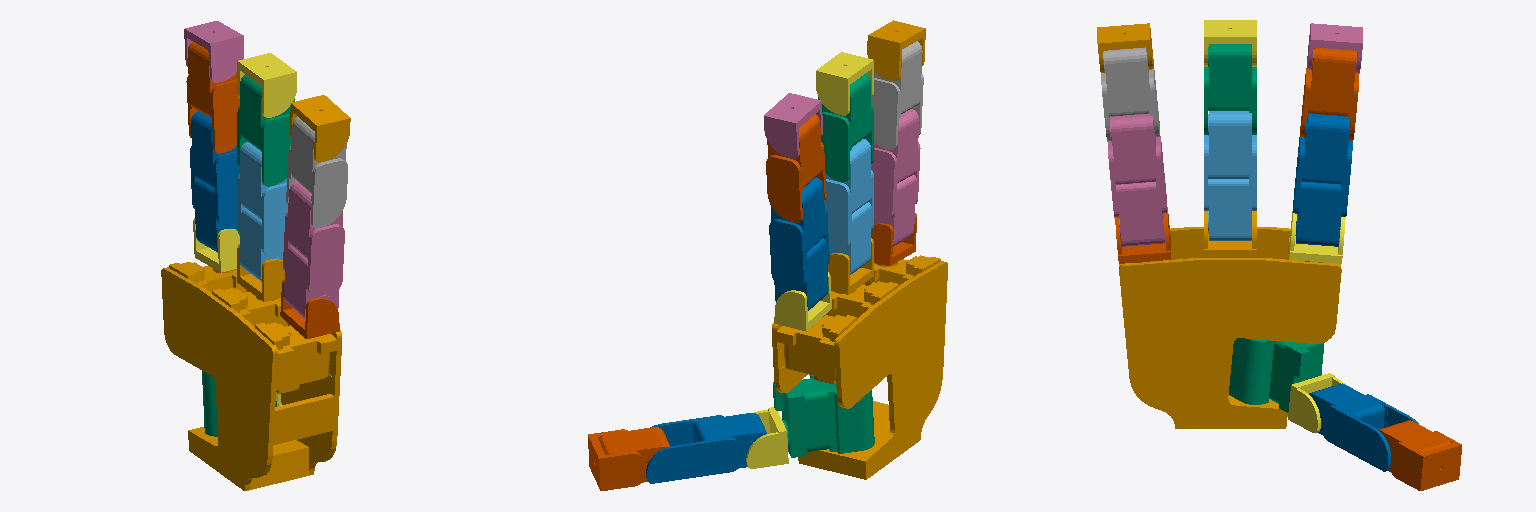
URDF robot description (allegro_right):
<?xml version="1.0" encoding="utf-8"?>
<robot name="allegro_right">
  <link name="base_link">
    <inertial>
      <mass value="0.4154"/>
      <origin rpy="0 0 0" xyz="0 0 0"/>
      <inertia ixx="1e-4" ixy="0" ixz="0" iyy="1e-4" iyz="0" izz="1e-4"/>
    </inertial>
    <visual>
      <geometry>
        <mesh filename="meshes/visual/base_link.obj"/>
      </geometry>
      <origin rpy="0 0 0" xyz="0 0 0 "/>
    </visual>
    <collision>
      <origin rpy="0 0 0" xyz="-0.009 0.0 -0.023"/>
      <geometry>
        <box size="0.0414 0.112 0.0448"/>
      </geometry>
    </collision>
    <collision>
      <origin rpy="0 0 0" xyz="-0.009 -0.0253 -0.0667"/>
      <geometry>
        <box size="0.0414 0.0538 0.0428"/>
      </geometry>
    </collision>
    <collision>
      <origin rpy="0 0 0" xyz="-0.009300 -0.00557 -0.08874"/>
      <geometry>
        <box size="0.0414 0.0720 0.013"/>
      </geometry>
    </collision>
  </link>

  <link name="palm">
  </link>
  <joint name="palm_joint" type="fixed">
    <parent link="base_link"/>
    <child link="palm"/>
    <origin rpy="0.00000 -0.00000 0.00000" xyz="0 0 -0.065"/>
  </joint>

  <!--  virtual link-->
  <link name="wrist">
    <inertial>
      <mass value="0.01"/>
      <origin rpy="0 0 0" xyz="0 0 0"/>
      <inertia ixx="1e-6" ixy="0" ixz="0" iyy="1e-6" iyz="0" izz="1e-6"/>
    </inertial>
  </link>
  <joint name="wrist_joint" type="fixed">
    <origin rpy="0 0 0" xyz="0 0 -0.03"/>
    <parent link="palm"/>
    <child link="wrist"/>
  </joint>

  <link name="link_0.0">
    <visual>
      <geometry>
        <mesh filename="meshes/visual/link_0.0.obj"/>
      </geometry>
    </visual>
    <collision>
      <geometry>
        <box size="0.0196 0.0275 0.0164"/>
      </geometry>
      <origin rpy="0 0 0" xyz="0 0 0.0082"/>
    </collision>
    <inertial>
      <mass value="0.005"/>
      <origin xyz="0 0 0"/>
      <inertia ixx="5.1458e-05" iyy="5.1458e-05" izz="6.125e-05" ixy="0" ixz="0" iyz="0"/>
    </inertial>
  </link>
  <joint name="joint_0.0" type="revolute">
    <axis xyz="0 0 1"/>
    <limit effort="10" lower="-0.47" upper="0.47" velocity="0"/>
    <parent link="base_link"/>
    <child link="link_0.0"/>
    <origin rpy="-0.08726646255 0 0" xyz="0 0.0435 -0.001542"/>
  </joint>
  <link name="link_1.0">
    <inertial>
      <mass value="0.125164"/>
      <origin xyz="0.027 0 0"/>
      <inertia ixx="6.39979e-06" iyy="8.88687e-05" izz="9.13751e-05" ixy="-3.26531e-06" ixz="1.23963e-05"
               iyz="2.07384e-05"/>
    </inertial>
    <visual>
      <geometry>
        <mesh filename="meshes/visual/link_1.0.obj"/>
      </geometry>
    </visual>
    <collision>
      <geometry>
        <box size="0.0196 0.0275 0.054"/>
      </geometry>
      <origin rpy="0 0 0" xyz="0 0 0.027"/>
    </collision>
  </link>
  <joint name="joint_1.0" type="revolute">
    <limit effort="10" lower="-0.196" upper="1.61" velocity="0"/>
    <axis xyz="0 1 0"/>
    <parent link="link_0.0"/>
    <child link="link_1.0"/>
    <origin xyz="0 0 0.0164"/>
  </joint>
  <link name="link_2.0">
    <inertial>
      <mass value="0.131691"/>
      <origin xyz="0.039 0 0"/>
      <inertia ixx="7.04217e-05" iyy="3.95744e-05" izz="6.61125e-05" ixy="-9.64342e-05" ixz="5.8796e-05"
               iyz="-3.62996e-05"/>
    </inertial>
    <visual>
      <geometry>
        <mesh filename="meshes/visual/link_2.0.obj"/>
      </geometry>
    </visual>
    <collision>
      <geometry>
        <box size="0.0196 0.0275 0.0384"/>
      </geometry>
      <origin rpy="0 0 0" xyz="0 0 0.0192"/>
    </collision>
  </link>
  <joint name="joint_2.0" type="revolute">
    <axis xyz="0 1 0"/>
    <limit effort="10" lower="-0.174" upper="1.709" velocity="0"/>
    <parent link="link_1.0"/>
    <child link="link_2.0"/>
    <origin xyz="0 0 0.054"/>
  </joint>
  <link name="link_3.0">
    <inertial>
      <mass value="0.0388"/>
      <origin xyz="0 0 0" rpy="0 0 0"/>
      <inertia ixx="3.29223173333e-05" ixy="8.042076e-06" ixz="5.2283e-06"
               iyy="1.47493026667e-5" iyz="1.1283525e-5" izz="3.29223173333e-05"/>
    </inertial>
    <visual>
      <geometry>
        <mesh filename="meshes/visual/link_3.0.obj"/>
      </geometry>
    </visual>
    <collision>
      <geometry>
        <box size="0.0196 0.0269 0.022"/>
      </geometry>
      <origin rpy="0 0 0" xyz="0 0 0.0047"/>
    </collision>
    <inertial>
      <origin rpy="0 0 0" xyz="0 0 0.01335"/>
      <mass value="0.02"/>
      <inertia ixx="1e-5" ixy="0.0" ixz="0.0" iyy="2e-5" iyz="0.0" izz="2e-5"/>
    </inertial>
  </link>
  <joint name="joint_3.0" type="revolute">
    <axis xyz="0 1 0"/>
    <limit effort="10" lower="-0.227" upper="1.618" velocity="0"/>
    <parent link="link_2.0"/>
    <child link="link_3.0"/>
    <origin xyz="0 0 0.0384"/>
  </joint>
  <link name="link_3.0_tip">
    <visual>
      <geometry>
        <mesh filename="meshes/visual/link_tip.obj"/>
      </geometry>
    </visual>
    <collision>
      <geometry>
      <mesh filename="meshes/collision/link_tip.obj"/>
      </geometry>
    </collision>
  </link>
  <joint name="joint_3.0_tip" type="fixed">
    <parent link="link_3.0"/>
    <child link="link_3.0_tip"/>
    <origin rpy="0 0 0" xyz="0 0 0.0267"/>
  </joint>
  <link name="link_4.0">
    <inertial>
      <mass value="0.005"/>
      <origin xyz="0 0 0"/>
      <inertia ixx="5.1458e-05" iyy="5.1458e-05" izz="6.125e-05" ixy="0" ixz="0" iyz="0"/>
    </inertial>
    <visual>
      <geometry>
        <mesh filename="meshes/visual/link_0.0.obj"/>
      </geometry>
    </visual>
    <collision>
      <geometry>
        <box size="0.0196 0.0275 0.0164"/>
      </geometry>
      <origin rpy="0 0 0" xyz="0 0 0.0082"/>
    </collision>
  </link>
  <joint name="joint_4.0" type="revolute">
    <axis xyz="0 0 1"/>
    <limit effort="10" lower="-0.47" upper="0.47" velocity="0"/>
    <parent link="base_link"/>
    <child link="link_4.0"/>
    <origin rpy="0.0 0 0" xyz="0 0 0.0007"/>
  </joint>
  <link name="link_5.0">
    <inertial>
      <mass value="0.125164"/>
      <origin xyz="0.027 0 0"/>
      <inertia ixx="6.39979e-06" iyy="8.88687e-05" izz="9.13751e-05" ixy="-3.26531e-06" ixz="1.23963e-05"
               iyz="2.07384e-05"/>
    </inertial>
    <visual>
      <geometry>
        <mesh filename="meshes/visual/link_1.0.obj"/>
      </geometry>
    </visual>
    <collision>
      <geometry>
        <box size="0.0196 0.0275 0.054"/>
      </geometry>
      <origin rpy="0 0 0" xyz="0 0 0.027"/>
    </collision>
  </link>
  <joint name="joint_5.0" type="revolute">
    <limit effort="10" lower="-0.196" upper="1.61" velocity="0"/>
    <axis xyz="0 1 0"/>
    <parent link="link_4.0"/>
    <child link="link_5.0"/>
    <origin xyz="0 0 0.0164"/>
  </joint>
  <link name="link_6.0">
    <inertial>
      <mass value="0.131691"/>
      <origin xyz="0.039 0 0"/>
      <inertia ixx="7.04217e-05" iyy="3.95744e-05" izz="6.61125e-05" ixy="-9.64342e-05" ixz="5.8796e-05"
               iyz="-3.62996e-05"/>
    </inertial>
    <visual>
      <geometry>
        <mesh filename="meshes/visual/link_2.0.obj"/>
      </geometry>
    </visual>
    <collision>
      <geometry>
        <box size="0.0196 0.0275 0.0384"/>
      </geometry>
      <origin rpy="0 0 0" xyz="0 0 0.0192"/>
    </collision>
  </link>
  <joint name="joint_6.0" type="revolute">
    <axis xyz="0 1 0"/>
    <limit effort="10" lower="-0.174" upper="1.709" velocity="0"/>
    <parent link="link_5.0"/>
    <child link="link_6.0"/>
    <origin xyz="0 0 0.054"/>
  </joint>
  <link name="link_7.0">
    <inertial>
      <mass value="0.0388"/>
      <origin xyz="0 0 0" rpy="0 0 0"/>
      <inertia ixx="3.29223173333e-05" ixy="8.042076e-06" ixz="5.2283e-06"
               iyy="1.47493026667e-5" iyz="1.1283525e-5" izz="3.29223173333e-05"/>
    </inertial>
    <visual>
      <geometry>
        <mesh filename="meshes/visual/link_3.0.obj"/>
      </geometry>
    </visual>
    <collision>
      <geometry>
        <box size="0.0196 0.0269 0.022"/>
      </geometry>
      <origin rpy="0 0 0" xyz="0 0 0.0047"/>
    </collision>
  </link>
  <joint name="joint_7.0" type="revolute">
    <axis xyz="0 1 0"/>
    <limit effort="10" lower="-0.227" upper="1.618" velocity="0"/>
    <parent link="link_6.0"/>
    <child link="link_7.0"/>
    <origin xyz="0 0 0.0384"/>
  </joint>
  <link name="link_7.0_tip">
    <visual>
      <geometry>
        <mesh filename="meshes/visual/link_tip.obj"/>
      </geometry>
    </visual>
    <collision>
      <geometry>
        <mesh filename="meshes/collision/link_tip.obj"/>
      </geometry>
    </collision>
  </link>
  <joint name="joint_7.0_tip" type="fixed">
    <parent link="link_7.0"/>
    <child link="link_7.0_tip"/>
    <origin rpy="0 0 0" xyz="0 0 0.0267"/>
  </joint>
  <link name="link_8.0">
    <inertial>
      <mass value="0.005"/>
      <origin xyz="0 0 0"/>
      <inertia ixx="5.1458e-05" iyy="5.1458e-05" izz="6.125e-05" ixy="0" ixz="0" iyz="0"/>
    </inertial>
    <visual>
      <geometry>
        <mesh filename="meshes/visual/link_0.0.obj"/>
      </geometry>
    </visual>
    <collision>
      <geometry>
        <box size="0.0196 0.0275 0.0164"/>
      </geometry>
      <origin rpy="0 0 0" xyz="0 0 0.0082"/>
    </collision>
  </link>
  <joint name="joint_8.0" type="revolute">
    <axis xyz="0 0 1"/>
    <limit effort="10" lower="-0.47" upper="0.47" velocity="0"/>
    <parent link="base_link"/>
    <child link="link_8.0"/>
    <origin rpy="0.08726646255 0 0" xyz="0 -0.0435 -0.001542"/>
  </joint>
  <link name="link_9.0">
    <inertial>
      <mass value="0.125164"/>
      <origin xyz="0.027 0 0"/>
      <inertia ixx="6.39979e-06" iyy="8.88687e-05" izz="9.13751e-05" ixy="-3.26531e-06" ixz="1.23963e-05"
               iyz="2.07384e-05"/>
    </inertial>
    <visual>
      <geometry>
        <mesh filename="meshes/visual/link_1.0.obj"/>
      </geometry>
    </visual>
    <collision>
      <geometry>
        <box size="0.0196 0.0275 0.054"/>
      </geometry>
      <origin rpy="0 0 0" xyz="0 0 0.027"/>
    </collision>
  </link>
  <joint name="joint_9.0" type="revolute">
    <limit effort="10" lower="-0.196" upper="1.61" velocity="0"/>
    <axis xyz="0 1 0"/>
    <parent link="link_8.0"/>
    <child link="link_9.0"/>
    <origin xyz="0 0 0.0164"/>
  </joint>
  <link name="link_10.0">
    <inertial>
      <mass value="0.131691"/>
      <origin xyz="0.039 0 0"/>
      <inertia ixx="7.04217e-05" iyy="3.95744e-05" izz="6.61125e-05" ixy="-9.64342e-05" ixz="5.8796e-05"
               iyz="-3.62996e-05"/>
    </inertial>
    <visual>
      <geometry>
        <mesh filename="meshes/visual/link_2.0.obj"/>
      </geometry>
    </visual>
    <collision>
      <geometry>
        <box size="0.0196 0.0275 0.0384"/>
      </geometry>
      <origin rpy="0 0 0" xyz="0 0 0.0192"/>
    </collision>
  </link>
  <joint name="joint_10.0" type="revolute">
    <axis xyz="0 1 0"/>
    <limit effort="10" lower="-0.174" upper="1.709" velocity="0"/>
    <parent link="link_9.0"/>
    <child link="link_10.0"/>
    <origin xyz="0 0 0.054"/>
  </joint>
  <link name="link_11.0">
    <inertial>
      <mass value="0.0388"/>
      <origin xyz="0 0 0" rpy="0 0 0"/>
      <inertia ixx="3.29223173333e-05" ixy="8.042076e-06" ixz="5.2283e-06"
               iyy="1.47493026667e-5" iyz="1.1283525e-5" izz="3.29223173333e-05"/>
    </inertial>
    <visual>
      <geometry>
        <mesh filename="meshes/visual/link_3.0.obj"/>
      </geometry>
    </visual>
    <collision>
      <geometry>
        <box size="0.0196 0.0269 0.022"/>
      </geometry>
      <origin rpy="0 0 0" xyz="0 0 0.0047"/>
    </collision>
  </link>
  <joint name="joint_11.0" type="revolute">
    <axis xyz="0 1 0"/>
    <limit effort="10" lower="-0.227" upper="1.618" velocity="0"/>
    <parent link="link_10.0"/>
    <child link="link_11.0"/>
    <origin xyz="0 0 0.0384"/>
  </joint>
  <link name="link_11.0_tip">
    <visual>
      <geometry>
        <mesh filename="meshes/visual/link_tip.obj"/>
      </geometry>
    </visual>
    <collision>
      <geometry>
        <mesh filename="meshes/collision/link_tip.obj"/>
      </geometry>
    </collision>
  </link>
  <joint name="joint_11.0_tip" type="fixed">
    <parent link="link_11.0"/>
    <child link="link_11.0_tip"/>
    <origin rpy="0 0 0" xyz="0 0 0.0267"/>
  </joint>
  <!-- THUMB -->
  <link name="link_12.0">
    <inertial>
      <mass value="0.005"/>
      <origin xyz="0 0 0"/>
      <inertia ixx="5.1458e-05" iyy="5.1458e-05" izz="6.125e-05" ixy="0" ixz="0" iyz="0"/>
    </inertial>
    <visual>
      <geometry>
        <mesh filename="meshes/visual/link_12.0_right.obj"/>
      </geometry>
    </visual>
    <collision>
      <geometry>
        <box size="0.0358 0.034 0.0455"/>
      </geometry>
      <origin rpy="0 0 0" xyz="-0.0179 0.009 0.0145"/>
    </collision>
  </link>
  <joint name="joint_12.0" type="revolute">
    <axis xyz="-1 0 0"/>
    <limit effort="10" lower="0.263" upper="1.396" velocity="0"/>
    <parent link="base_link"/>
    <child link="link_12.0"/>
    <origin rpy="0 -1.65806278845 -1.5707963259" xyz="-0.0182 0.019333 -0.045987"/>
  </joint>
  <link name="link_13.0">
    <inertial>
      <mass value="0.125164"/>
      <origin xyz="0.027 0 0"/>
      <inertia ixx="6.39979e-06" iyy="8.88687e-05" izz="9.13751e-05" ixy="-3.26531e-06" ixz="1.23963e-05"
               iyz="2.07384e-05"/>
    </inertial>
    <visual>
      <geometry>
        <mesh filename="meshes/visual/link_13.0.obj"/>
      </geometry>
    </visual>
    <collision>
      <geometry>
        <box size="0.0196 0.0275 0.0177"/>
      </geometry>
      <origin rpy="0 0 0" xyz="0 0 0.00885"/>
    </collision>
  </link>
  <joint name="joint_13.0" type="revolute">
    <axis xyz="0 0 1"/>
    <limit effort="10" lower="-0.105" upper="1.163" velocity="0"/>
    <parent link="link_12.0"/>
    <child link="link_13.0"/>
    <origin xyz="-0.027 0.005 0.0399"/>
  </joint>
  <link name="link_14.0">
    <inertial>
      <mass value="0.131691"/>
      <origin xyz="0.039 0 0"/>
      <inertia ixx="7.04217e-05" iyy="3.95744e-05" izz="6.61125e-05" ixy="-9.64342e-05" ixz="5.8796e-05"
               iyz="-3.62996e-05"/>
    </inertial>
    <visual>
      <geometry>
        <mesh filename="meshes/visual/link_14.0.obj"/>
      </geometry>
    </visual>
    <collision>
      <geometry>
        <box size="0.0196 0.0275 0.0514"/>
      </geometry>
      <origin rpy="0 0 0" xyz="0 0 0.0257"/>
    </collision>
  </link>
  <joint name="joint_14.0" type="revolute">
    <axis xyz="0 1 0"/>
    <limit effort="10" lower="-0.189" upper="1.644" velocity="0"/>
    <parent link="link_13.0"/>
    <child link="link_14.0"/>
    <origin xyz="0 0 0.0177"/>
  </joint>
  <link name="link_15.0">
    <inertial>
      <mass value="0.0388"/>
      <origin xyz="0 0 0" rpy="0 0 0"/>
      <inertia ixx="3.29223173333e-05" ixy="8.042076e-06" ixz="5.2283e-06"
               iyy="1.47493026667e-5" iyz="1.1283525e-5" izz="3.29223173333e-05"/>
    </inertial>
    <visual>
      <geometry>
        <mesh filename="meshes/visual/link_15.0.obj"/>
      </geometry>
    </visual>
    <collision>
      <geometry>
        <box size="0.0196 0.0269 0.04"/>
      </geometry>
      <origin rpy="0 0 0" xyz="0 0 0.01125"/>
    </collision>
  </link>
  <joint name="joint_15.0" type="revolute">
    <axis xyz="0 1 0"/>
    <limit effort="10" lower="-0.162" upper="1.719" velocity="0"/>
    <parent link="link_14.0"/>
    <child link="link_15.0"/>
    <origin xyz="0 0 0.0514"/>
  </joint>
  <link name="link_15.0_tip">
    <visual>
      <geometry>
        <mesh filename="meshes/visual/link_tip.obj"/>
      </geometry>
    </visual>
    <collision>
      <geometry>
        <mesh filename="meshes/collision/link_tip.obj"/>
      </geometry>
    </collision>
  </link>
  <joint name="joint_15.0_tip" type="fixed">
    <parent link="link_15.0"/>
    <child link="link_15.0_tip"/>
    <origin rpy="0 0 0" xyz="0 0 0.0423"/>
  </joint>
</robot>

--- Facts derived from the render (not from the file) ---
Views: 3 orthographic renders of the robot side by side, from view 1: azimuth 30°, elevation 25°; view 2: azimuth 150°, elevation 25°; view 3: azimuth 270°, elevation 25°.
Model allegro_right with 23 links and 22 joints (16 revolute, 6 fixed), rooted at base_link, posed joints at zero except 1 at the middle of their limits (joint_12.0 = 0.8295).
Visible links, largest first — view 1: base_link, link_9.0, link_5.0, link_1.0, link_10.0, link_6.0, link_2.0, link_11.0, link_7.0, link_3.0, link_8.0, link_4.0 (+2 smaller); view 2: base_link, link_14.0, link_12.0, link_1.0, link_5.0, link_9.0, link_15.0, link_2.0, link_6.0, link_10.0, link_3.0, link_7.0 (+5 smaller); view 3: base_link, link_1.0, link_9.0, link_5.0, link_12.0, link_14.0, link_15.0, link_10.0, link_2.0, link_6.0, link_13.0, link_11.0 (+5 smaller).
Link boxes in pixels (left/top/right/bottom): base_link: left=161, top=262, right=341, bottom=490; link_9.0: left=283, top=181, right=344, bottom=318; link_5.0: left=237, top=142, right=287, bottom=281; link_1.0: left=190, top=111, right=239, bottom=252; link_10.0: left=286, top=117, right=347, bottom=228; link_6.0: left=237, top=74, right=294, bottom=186; link_2.0: left=186, top=42, right=239, bottom=153; link_11.0: left=289, top=95, right=350, bottom=162; link_7.0: left=237, top=53, right=296, bottom=117; link_3.0: left=184, top=21, right=243, bottom=82; link_8.0: left=280, top=279, right=339, bottom=338; link_4.0: left=237, top=244, right=284, bottom=301; base_link: left=772, top=255, right=947, bottom=479; link_14.0: left=646, top=413, right=766, bottom=483; link_12.0: left=773, top=374, right=874, bottom=457; link_1.0: left=769, top=177, right=829, bottom=310; link_5.0: left=824, top=139, right=873, bottom=274; link_9.0: left=871, top=109, right=920, bottom=246; link_15.0: left=588, top=427, right=669, bottom=490; link_2.0: left=766, top=114, right=826, bottom=222; link_6.0: left=818, top=73, right=873, bottom=181; link_10.0: left=871, top=41, right=923, bottom=149; link_3.0: left=764, top=93, right=822, bottom=158; link_7.0: left=816, top=52, right=873, bottom=115; base_link: left=1119, top=227, right=1341, bottom=428; link_1.0: left=1293, top=114, right=1352, bottom=246; link_9.0: left=1108, top=114, right=1166, bottom=246; link_5.0: left=1204, top=111, right=1256, bottom=240; link_12.0: left=1229, top=338, right=1324, bottom=412; link_14.0: left=1309, top=383, right=1418, bottom=471; link_15.0: left=1379, top=420, right=1461, bottom=490; link_10.0: left=1101, top=47, right=1159, bottom=141; link_2.0: left=1300, top=48, right=1358, bottom=140; link_6.0: left=1204, top=44, right=1256, bottom=134; link_13.0: left=1288, top=373, right=1345, bottom=432; link_11.0: left=1097, top=23, right=1153, bottom=72.
Bounding box of the posed robot: 0.1273 × 0.1862 × 0.2202 m (x, y, z).
17 mesh visuals loaded from 10 distinct referenced files (9 OBJ); not drawn: 4 (reference not matched to a file when rendering).